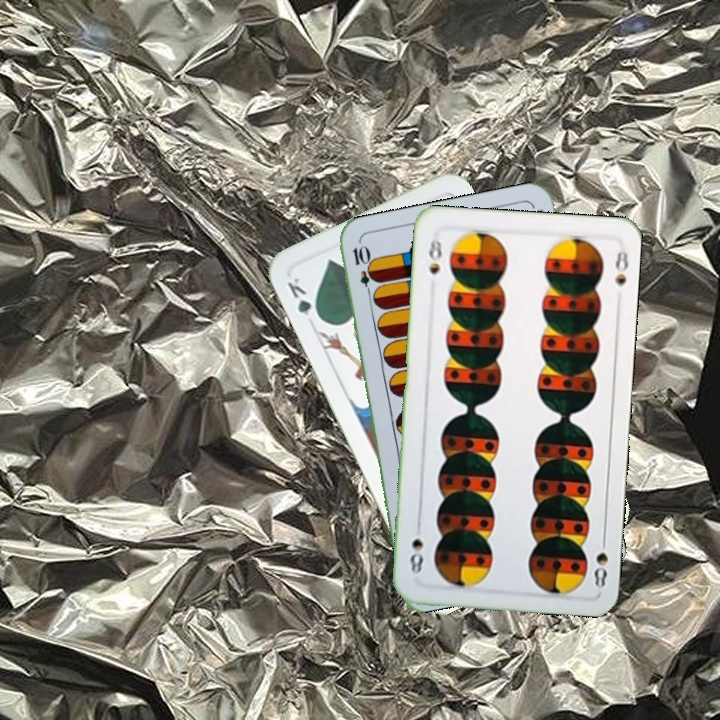E10: (348, 241, 376, 300)
GK: (283, 273, 324, 324)
S8: (590, 532, 610, 591), (424, 234, 445, 277)
